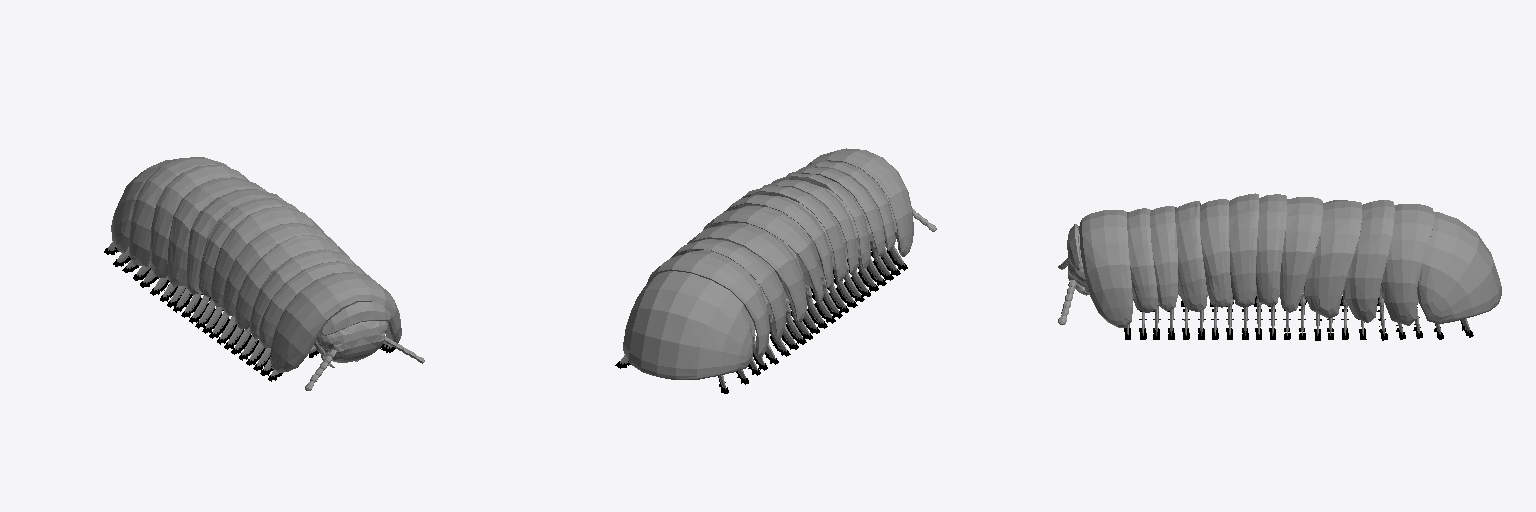
Rendered from Glomeris_marginata.obj.
The picture shows the model from 3 angles: view 1: azimuth 30°, elevation 25°; view 2: azimuth 150°, elevation 25°; view 3: azimuth 270°, elevation 25°; orthographic projection.
Parts seen in each view (by area): view 1: Zephronia_sp; view 2: Zephronia_sp; view 3: Zephronia_sp.
Part boxes in pixels (x1,y1,x2,y2): Zephronia_sp: (104, 157, 424, 390); Zephronia_sp: (615, 148, 936, 393); Zephronia_sp: (1058, 193, 1501, 340).
Bounding box in the file's own units: 1.71 × 1.42 × 5.08.